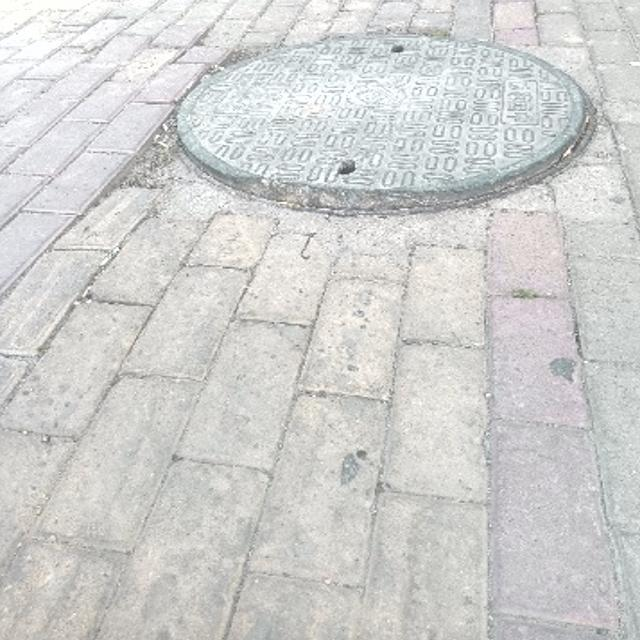good: (178, 29, 594, 213)
